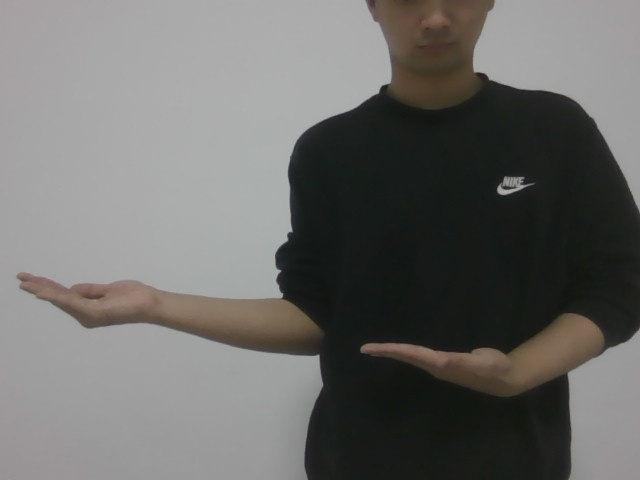please: (16, 247, 539, 423)
